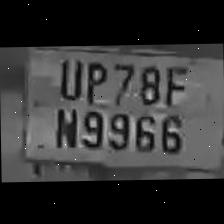6: (156, 108, 183, 154), (130, 108, 156, 152)
7: (107, 57, 134, 104)
8: (133, 60, 162, 105)
9: (103, 104, 130, 150), (78, 104, 104, 149)
F: (162, 61, 188, 105)
N: (50, 101, 76, 149)
P: (80, 56, 107, 104)
U: (52, 53, 82, 101)
